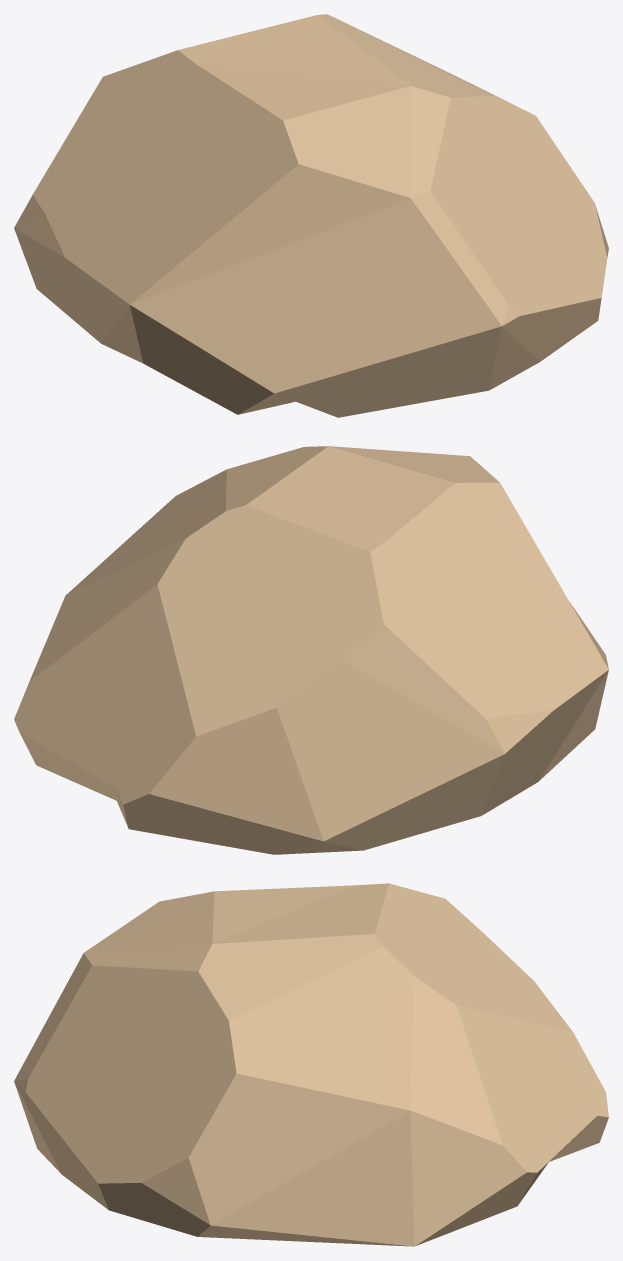
File: nature-stone-medium-flat.glb
The picture shows the model from 3 angles, top to bottom: view 1: azimuth 30°, elevation 25°; view 2: azimuth 150°, elevation 25°; view 3: azimuth 270°, elevation 25°; orthographic projection. The views are drawn at different scales.
Parts seen in each view (by area): view 1: stone-medium-flat; view 2: stone-medium-flat; view 3: stone-medium-flat.
Part boxes in pixels (x1,y1,x2,y2): stone-medium-flat: (14,14,608,417); stone-medium-flat: (14,446,608,854); stone-medium-flat: (14,883,608,1246).
Size of the model in its own units: 2.58 by 1.33 by 2.99.
